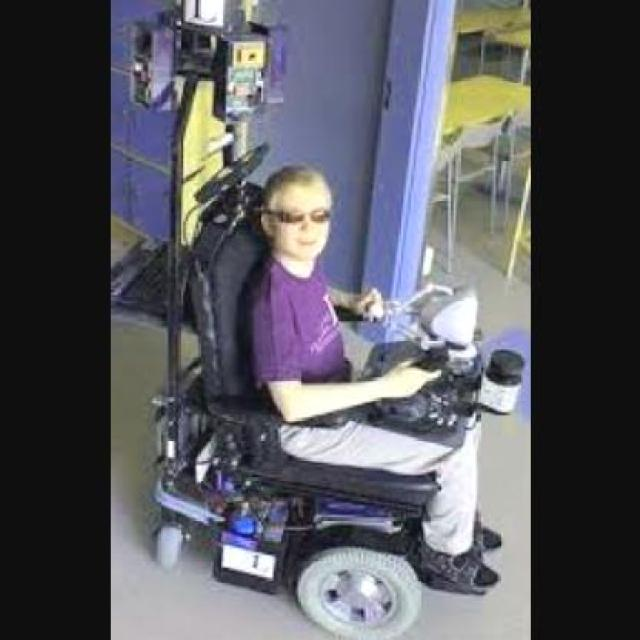wheelchairs: (184, 282, 456, 632)
